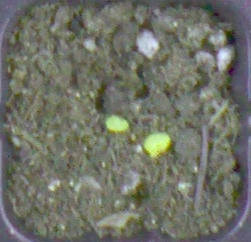pepper seed: (56, 53, 228, 212), (40, 47, 170, 181)
